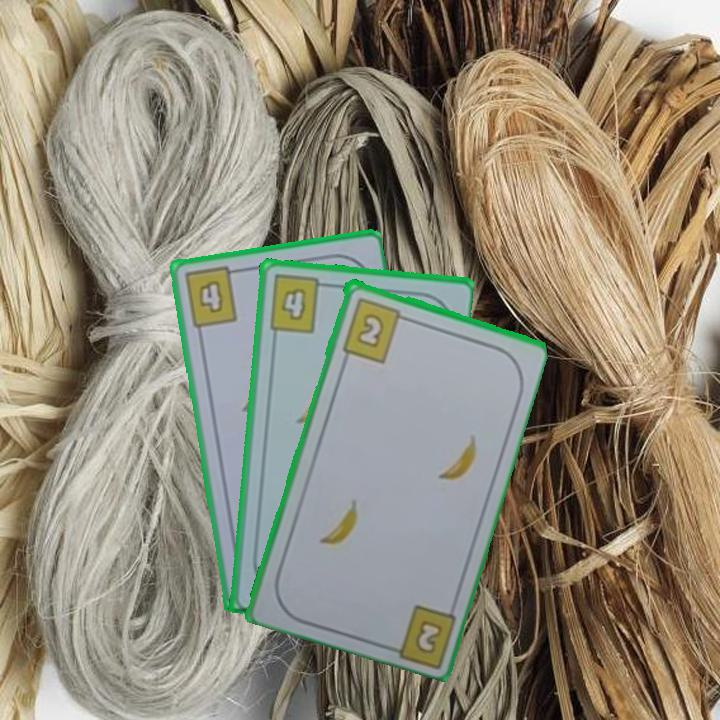2b: (338, 293, 412, 365), (411, 615, 446, 657)
4b: (265, 271, 332, 336), (180, 263, 244, 331)
